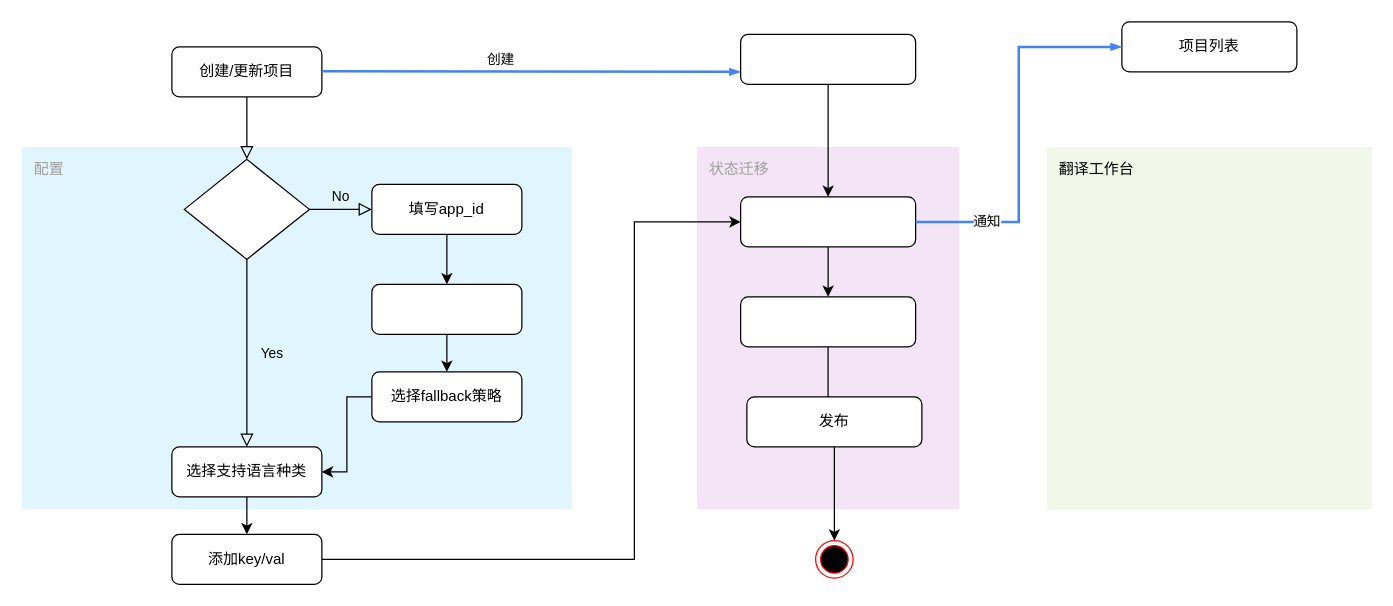
Some shapes in this 1393 by 606 pixel diagram are drawn without their labels. The centre of each missing label's shape, as x and y in pixels:
"任务（跟踪变化及进度）" belongs at [827,58].
"提交" belongs at [827,221].
"选择打包方式" belongs at [446,308].
"通用项目" belongs at [246,208].
"验证" belongs at [827,321].
